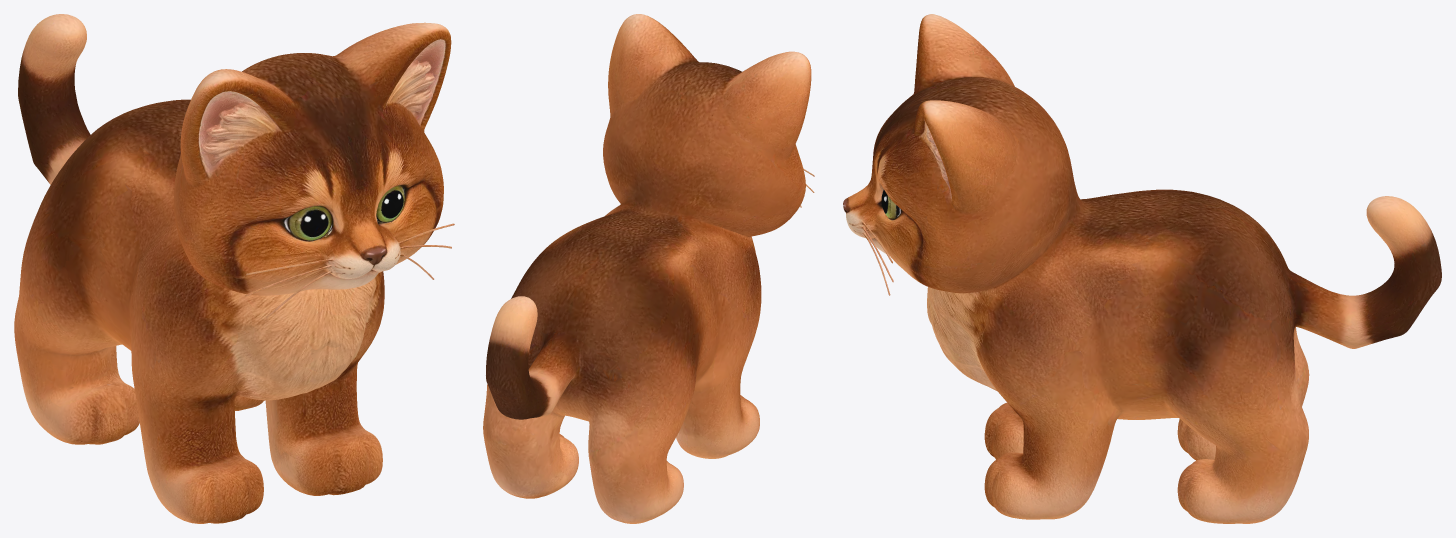
Rendered from meshy-ginger.glb.
3 renders of one model, left to right at view 1: azimuth 30°, elevation 25°; view 2: azimuth 150°, elevation 25°; view 3: azimuth 270°, elevation 25°, orthographic. The views are drawn at different scales.
Parts seen in each view (by area): view 1: Mesh_0; view 2: Mesh_0; view 3: Mesh_0.
Part boxes in pixels (x1,y1,x2,y2): Mesh_0: (14,14,454,523); Mesh_0: (483,14,814,523); Mesh_0: (843,14,1441,523).
Bounding box in the file's own units: 0.8203 × 1.49 × 1.9.
Materials: 1 (1 with a texture image).
